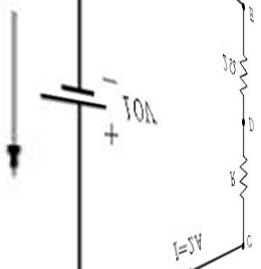resistor: (233, 147, 252, 200), (236, 49, 249, 99)
